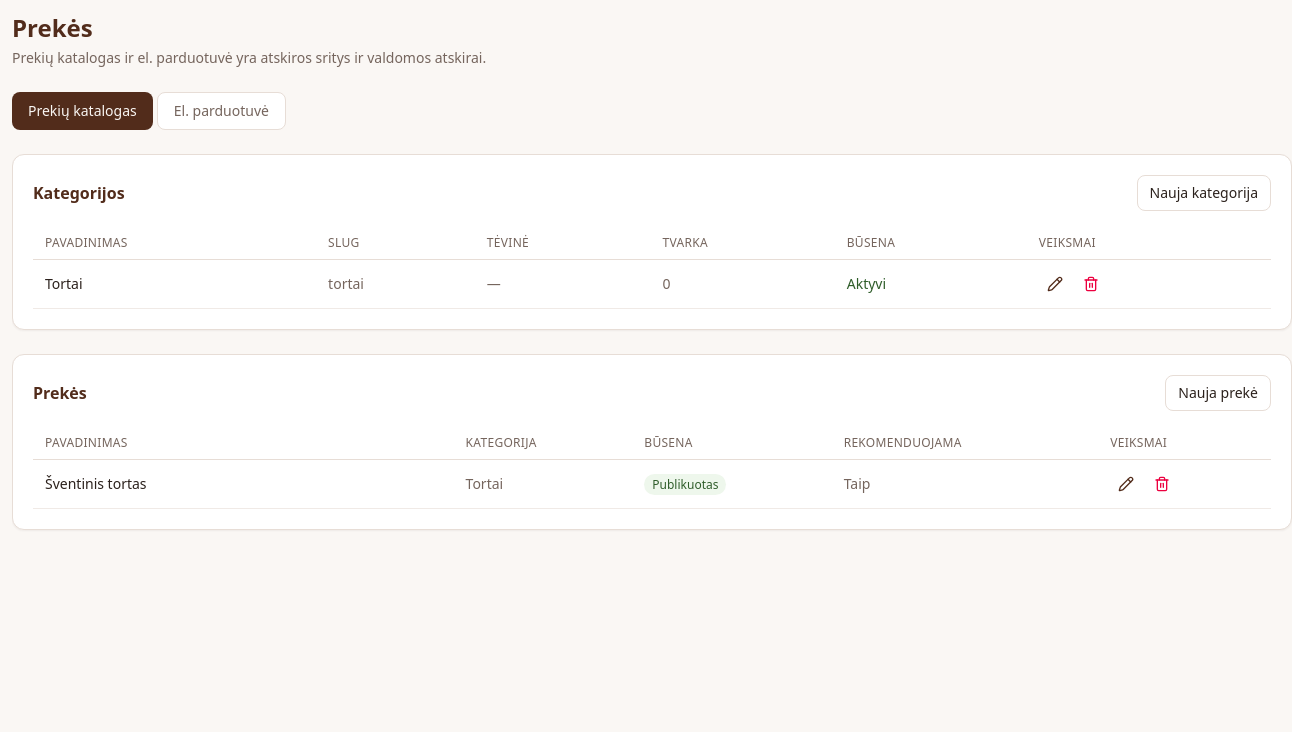
Test: ProductsAdmin › separates the catalogue and e-shop sections via tabs
The image size is (1292, 732).
Step 1. Click the tab "El. parduotuvė" → (221, 111), box [157,92,286,130]
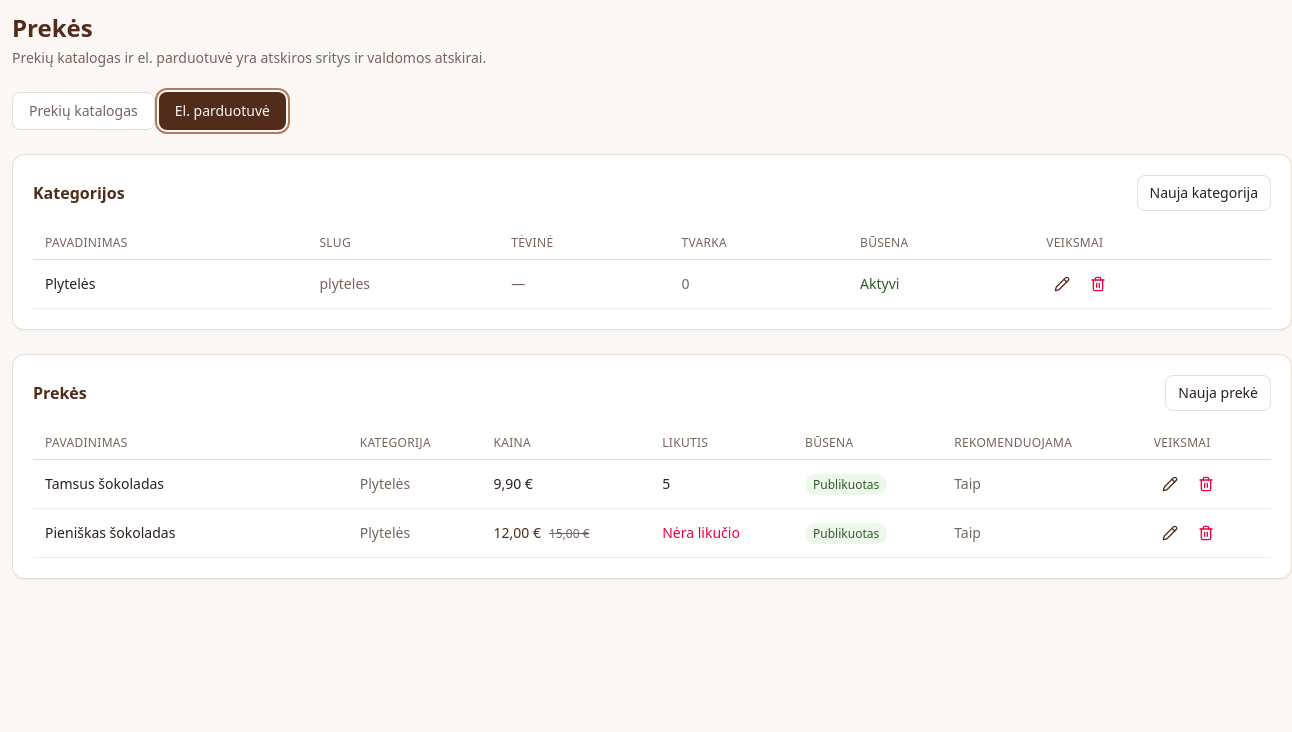
expect the element with test id "shop-products-table" is shown: met, box [33,427,1271,558]
